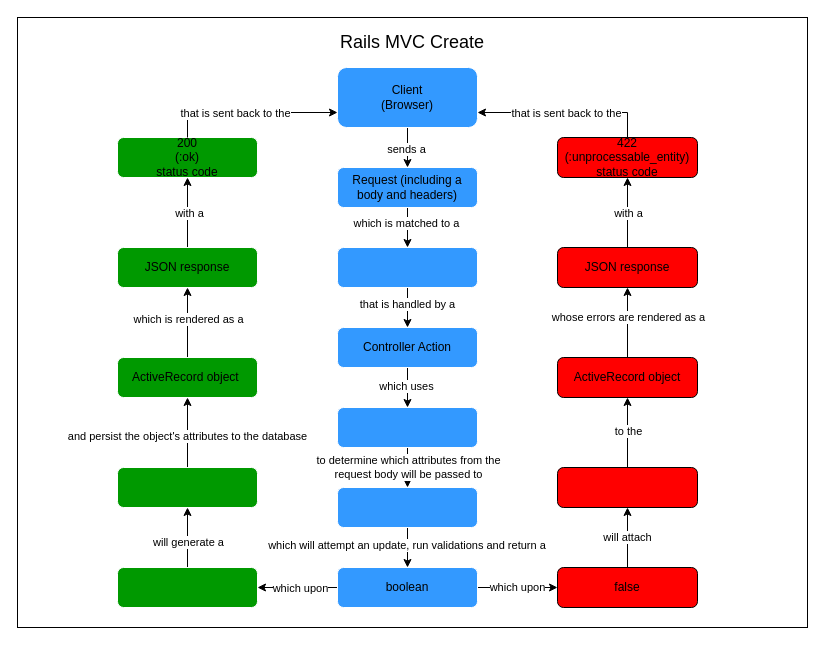
Image size: 825x645. Some labels were removed from this diagram. The centre of each missing label's shape, as x and y in pixels:
Route: (407,267)
SQL query: (187,487)
strong params: (407,427)
true: (187,587)
update: (407,507)
validation errors: (627,487)
